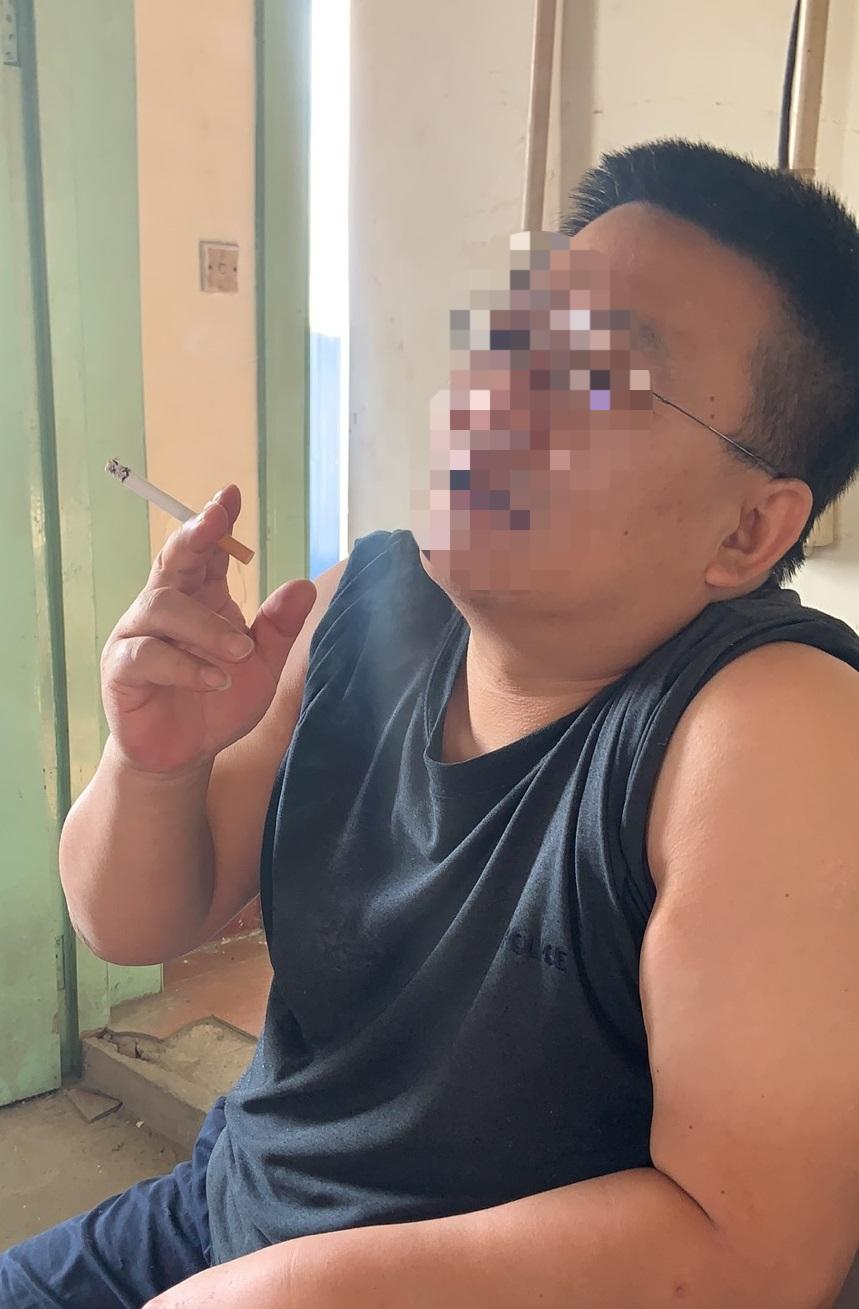smoke: (97, 461, 262, 572)
